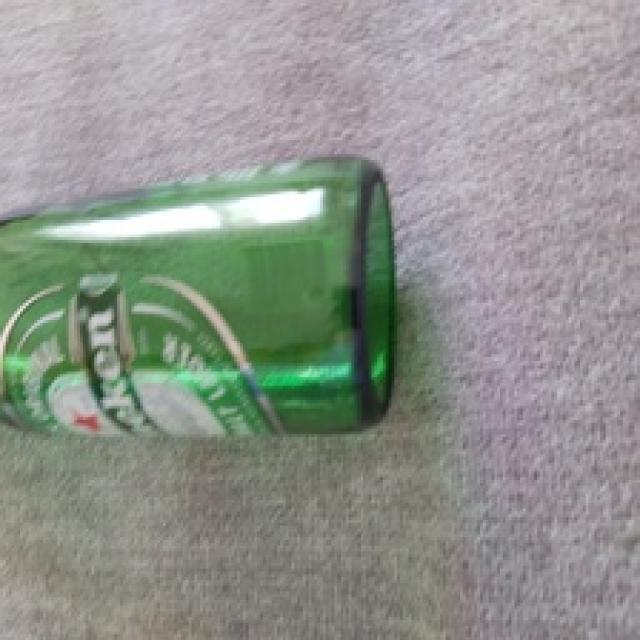Glass: (0, 154, 397, 436)
